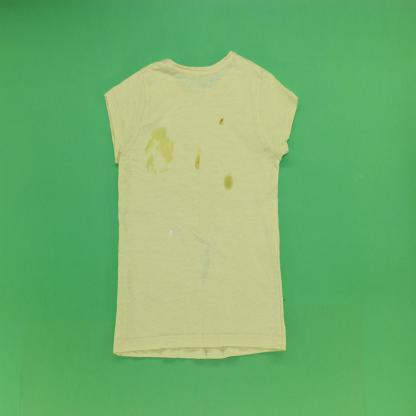stain: (141, 121, 180, 183), (222, 169, 236, 193), (194, 150, 203, 174), (218, 116, 225, 128), (169, 228, 175, 239)
